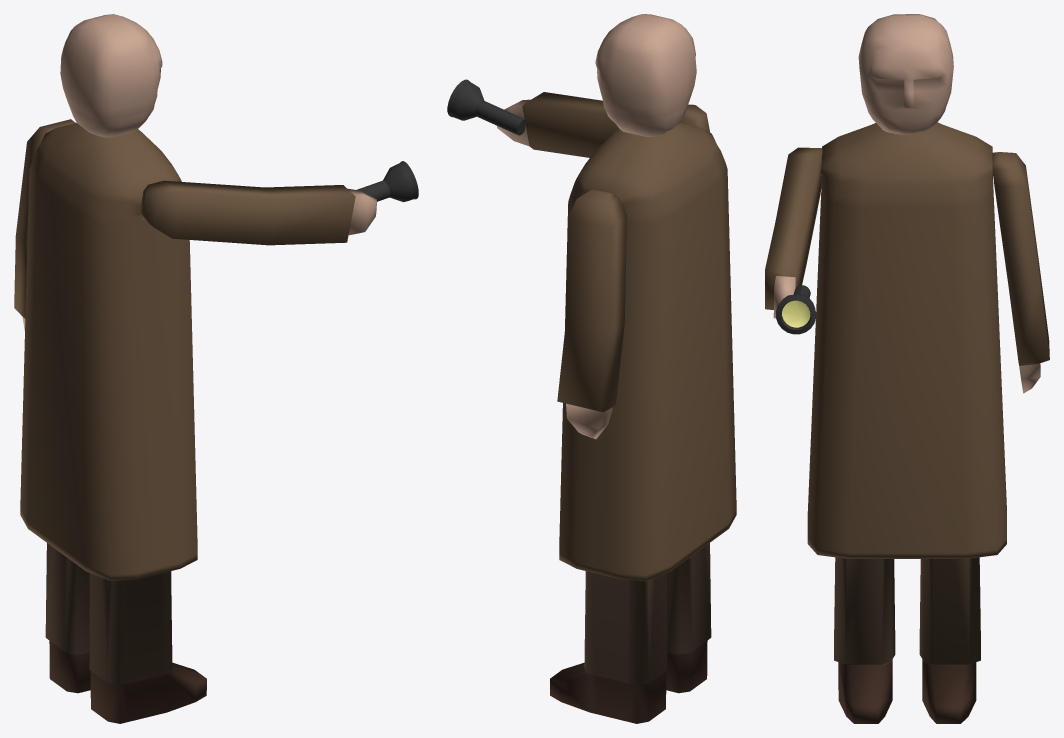
Rendered from Player.fbx.
The picture shows the model from 3 angles, left to right: view 1: azimuth 30°, elevation 25°; view 2: azimuth 150°, elevation 25°; view 3: azimuth 270°, elevation 25°; orthographic projection.
Visible parts, largest first — view 1: bodyMain, armRight, head, armLeft, polySurface1.001; view 2: bodyMain, armLeft, head, armRight, polySurface1.001; view 3: bodyMain, head, armLeft, armRight, polySurface1.001.
Boxes of the visible parts, <box> form: bodyMain: <box>20,123,206,723</box>; armRight: <box>139,180,377,245</box>; head: <box>60,14,162,137</box>; armLeft: <box>14,119,75,330</box>; polySurface1.001: <box>357,161,418,202</box>; bodyMain: <box>550,122,736,723</box>; armLeft: <box>557,188,626,439</box>; head: <box>595,14,696,136</box>; armRight: <box>497,92,709,157</box>; polySurface1.001: <box>447,79,525,135</box>; bodyMain: <box>807,122,1006,723</box>; head: <box>858,14,953,134</box>; armLeft: <box>992,152,1049,393</box>; armRight: <box>765,147,822,318</box>; polySurface1.001: <box>776,285,815,334</box>.
Size of the model in its own units: 80.73 by 172 by 66.41.
